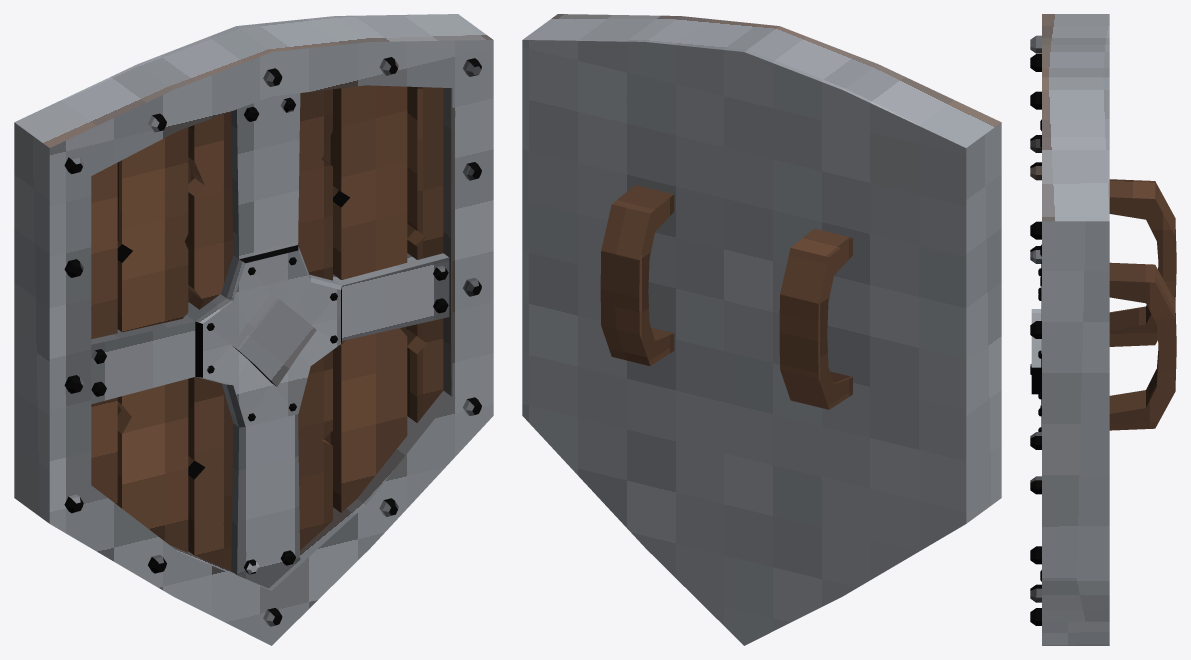
Rendered from shield_heater.glb.
3 renders of one model, left to right at view 1: azimuth 30°, elevation 25°; view 2: azimuth 150°, elevation 25°; view 3: azimuth 270°, elevation 25°, orthographic. The views are drawn at different scales.
Visible parts, largest first — view 1: Shield_Heater; view 2: Shield_Heater; view 3: Shield_Heater.
Part boxes in pixels (<box>): Shield_Heater: <box>14,14,493,645</box>; Shield_Heater: <box>522,14,1001,645</box>; Shield_Heater: <box>1030,14,1176,645</box>.
Size of the model in its own units: 0.6648 by 0.85 by 0.1979.
Materials: 1 (1 with a texture image).
